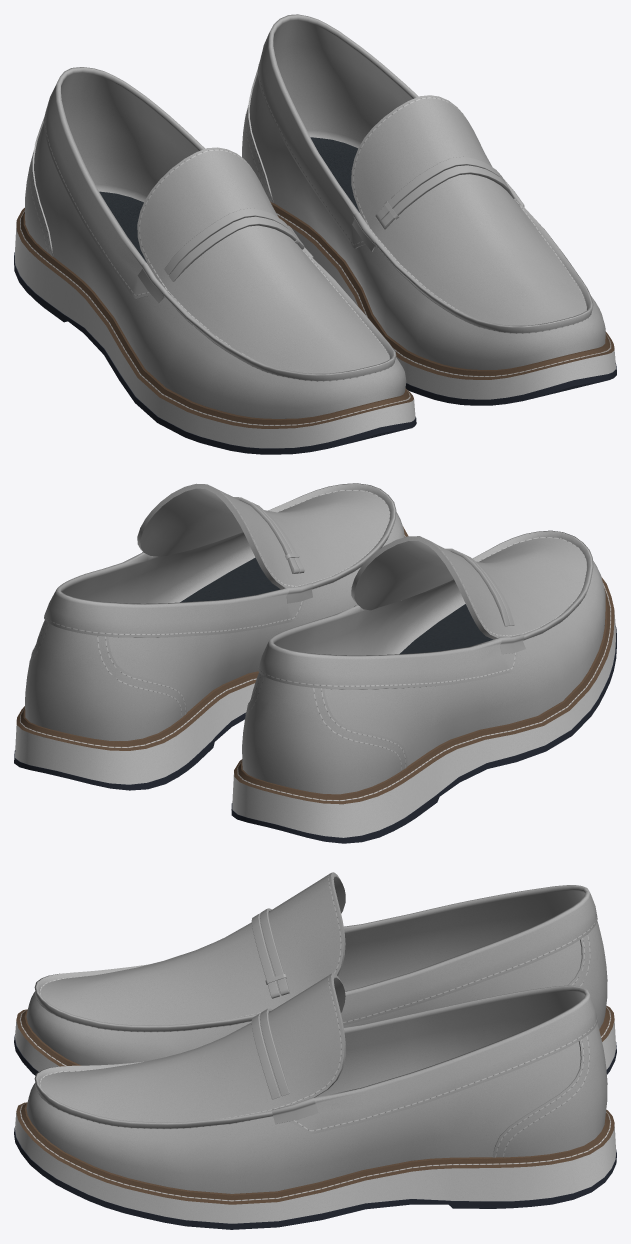
File: Mocasines.glb
The picture shows the model from 3 angles, top to bottom: view 1: azimuth 30°, elevation 25°; view 2: azimuth 150°, elevation 25°; view 3: azimuth 270°, elevation 25°; orthographic projection. The views are drawn at different scales.
Parts seen in each view (by area): view 1: mocasin_Modeling_v0003_Cuero_GEO, mocasin_Modeling_v0003_Cuero_GEO.001, mocasin_Modeling_v0003_Suela_2_GEO, mocasin_Modeling_v0003_Suela_3_GEO, mocasin_Modeling_v0003_Suela_2_GEO.001, mocasin_Modeling_v0003_Suela_3_GEO.001, mocasin_Modeling_v0003_Suela_1_GEO, mocasin_Modeling_v0003_Tela_GEO, mocasin_Modeling_v0003_Tela_GEO.001, mocasin_Modeling_v0003_Stitches_GEO, mocasin_Modeling_v0003_Stitches_GEO.001, mocasin_Modeling_v0003_Suela_1_GEO.001 (+2 smaller); view 2: mocasin_Modeling_v0003_Cuero_GEO, mocasin_Modeling_v0003_Cuero_GEO.001, mocasin_Modeling_v0003_Suela_2_GEO, mocasin_Modeling_v0003_Suela_2_GEO.001, mocasin_Modeling_v0003_Suela_3_GEO, mocasin_Modeling_v0003_Suela_3_GEO.001, mocasin_Modeling_v0003_Suela_1_GEO, mocasin_Modeling_v0003_Stitches_GEO, mocasin_Modeling_v0003_Plantilla_GEO, mocasin_Modeling_v0003_Plantilla_GEO.001, mocasin_Modeling_v0003_Stitches_GEO.001, mocasin_Modeling_v0003_Suela_1_GEO.001 (+2 smaller); view 3: mocasin_Modeling_v0003_Cuero_GEO.001, mocasin_Modeling_v0003_Cuero_GEO, mocasin_Modeling_v0003_Suela_2_GEO.001, mocasin_Modeling_v0003_Suela_3_GEO.001, mocasin_Modeling_v0003_Suela_1_GEO.001, mocasin_Modeling_v0003_Stitches_GEO.001, mocasin_Modeling_v0003_Tela_GEO, mocasin_Modeling_v0003_Tela_GEO.001, mocasin_Modeling_v0003_Stitches_GEO, mocasin_Modeling_v0003_Suela_3_GEO, mocasin_Modeling_v0003_Suela_2_GEO.
Part boxes in pixels (bbox=[...]): mocasin_Modeling_v0003_Cuero_GEO: bbox=[25, 67, 406, 418]; mocasin_Modeling_v0003_Cuero_GEO.001: bbox=[242, 14, 605, 369]; mocasin_Modeling_v0003_Suela_2_GEO: bbox=[15, 222, 415, 448]; mocasin_Modeling_v0003_Suela_3_GEO: bbox=[16, 208, 413, 428]; mocasin_Modeling_v0003_Suela_2_GEO.001: bbox=[292, 228, 615, 399]; mocasin_Modeling_v0003_Suela_3_GEO.001: bbox=[270, 201, 614, 379]; mocasin_Modeling_v0003_Suela_1_GEO: bbox=[14, 252, 416, 454]; mocasin_Modeling_v0003_Tela_GEO: bbox=[164, 208, 304, 281]; mocasin_Modeling_v0003_Tela_GEO.001: bbox=[375, 156, 514, 229]; mocasin_Modeling_v0003_Stitches_GEO: bbox=[20, 115, 410, 425]; mocasin_Modeling_v0003_Stitches_GEO.001: bbox=[245, 64, 611, 376]; mocasin_Modeling_v0003_Suela_1_GEO.001: bbox=[405, 363, 616, 405]; mocasin_Modeling_v0003_Cuero_GEO: bbox=[242, 530, 605, 794]; mocasin_Modeling_v0003_Cuero_GEO.001: bbox=[25, 483, 404, 740]; mocasin_Modeling_v0003_Suela_2_GEO: bbox=[232, 610, 615, 837]; mocasin_Modeling_v0003_Suela_2_GEO.001: bbox=[15, 683, 254, 784]; mocasin_Modeling_v0003_Suela_3_GEO: bbox=[234, 577, 614, 804]; mocasin_Modeling_v0003_Suela_3_GEO.001: bbox=[16, 526, 408, 750]; mocasin_Modeling_v0003_Suela_1_GEO: bbox=[231, 625, 616, 843]; mocasin_Modeling_v0003_Stitches_GEO: bbox=[237, 537, 611, 801]; mocasin_Modeling_v0003_Plantilla_GEO: bbox=[399, 604, 492, 654]; mocasin_Modeling_v0003_Plantilla_GEO.001: bbox=[180, 557, 280, 602]; mocasin_Modeling_v0003_Stitches_GEO.001: bbox=[20, 489, 405, 747]; mocasin_Modeling_v0003_Suela_1_GEO.001: bbox=[14, 712, 246, 790]; mocasin_Modeling_v0003_Cuero_GEO.001: bbox=[26, 973, 607, 1193]; mocasin_Modeling_v0003_Cuero_GEO: bbox=[26, 872, 607, 1065]; mocasin_Modeling_v0003_Suela_2_GEO.001: bbox=[15, 1113, 616, 1223]; mocasin_Modeling_v0003_Suela_3_GEO.001: bbox=[16, 1102, 614, 1204]; mocasin_Modeling_v0003_Suela_1_GEO.001: bbox=[14, 1127, 616, 1229]; mocasin_Modeling_v0003_Stitches_GEO.001: bbox=[20, 975, 610, 1201]; mocasin_Modeling_v0003_Tela_GEO: bbox=[251, 908, 289, 998]; mocasin_Modeling_v0003_Tela_GEO.001: bbox=[251, 1008, 289, 1099]; mocasin_Modeling_v0003_Stitches_GEO: bbox=[20, 874, 610, 1065]; mocasin_Modeling_v0003_Suela_3_GEO: bbox=[16, 1005, 614, 1066]; mocasin_Modeling_v0003_Suela_2_GEO: bbox=[15, 1020, 616, 1071].
Bounding box in the file's own units: 0.3569 × 0.1748 × 0.4638.
7 materials, 7 textured.
